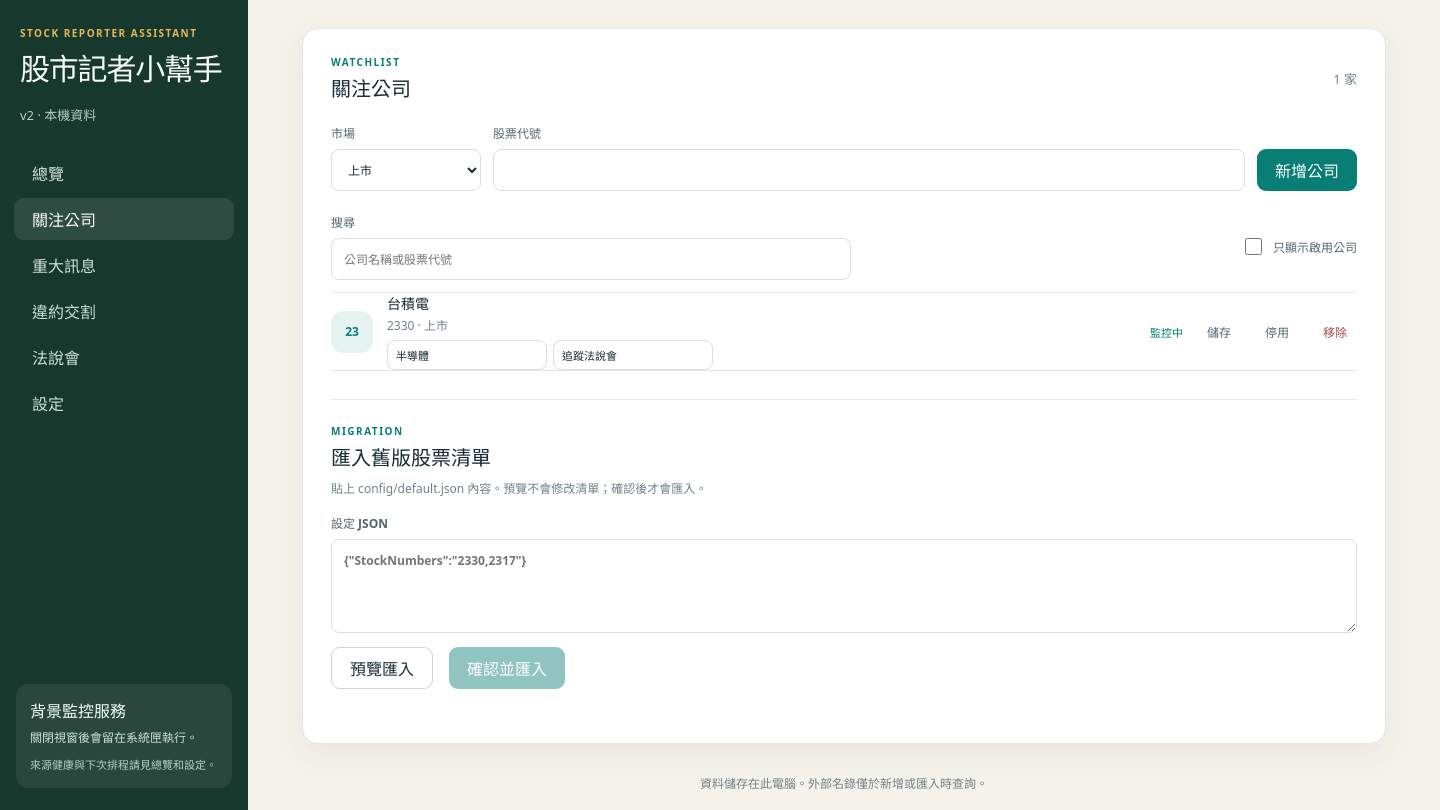
Test: watchlist-management / UI › removes a company from the visible list instead of showing it as disabled
Click the tab "關注公司": (124, 219) [14,198,234,240]
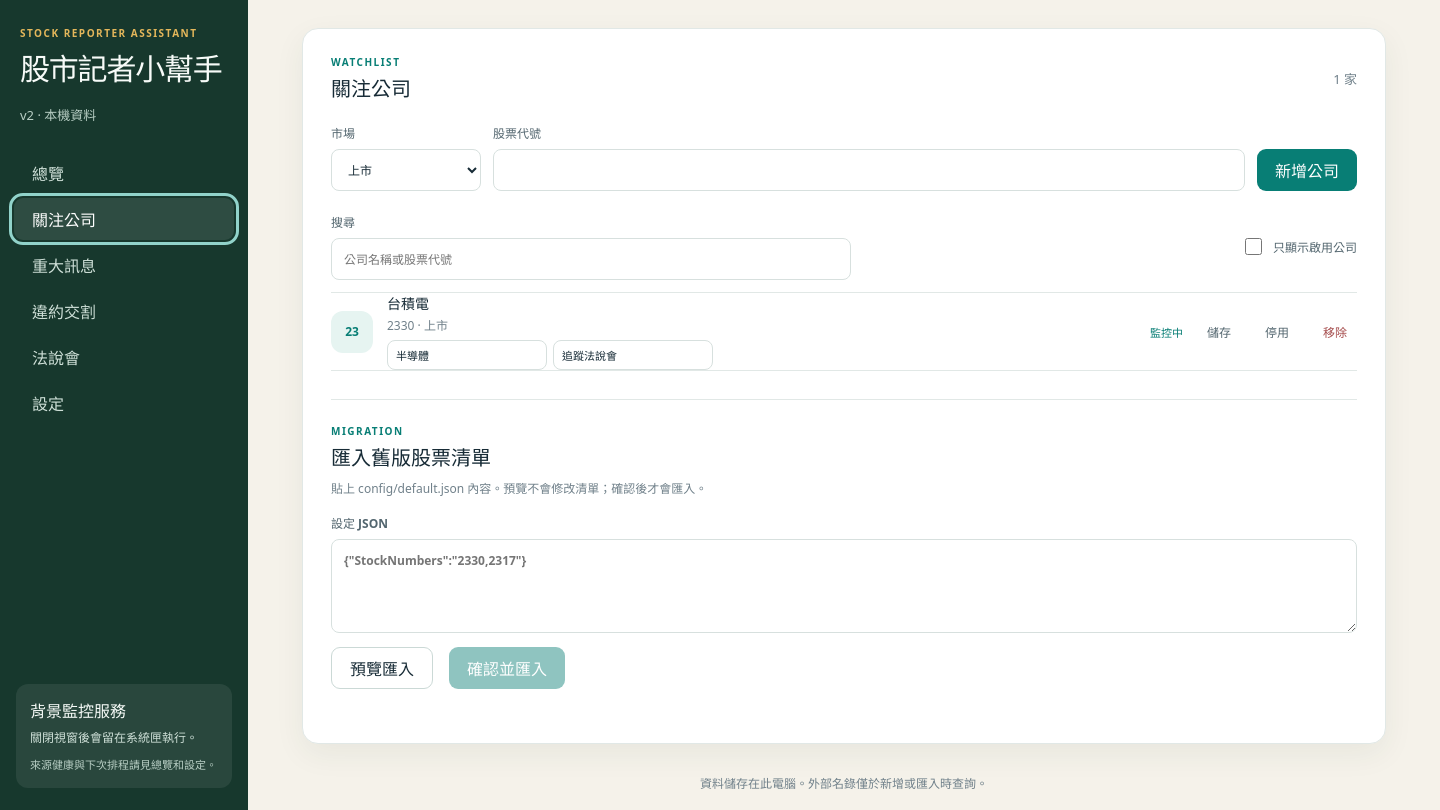
Expected: the text "台積電" is shown, [387,294,429,313]
Click the button with aria-label "移除台積電": (1335, 332) [1313,314,1357,348]
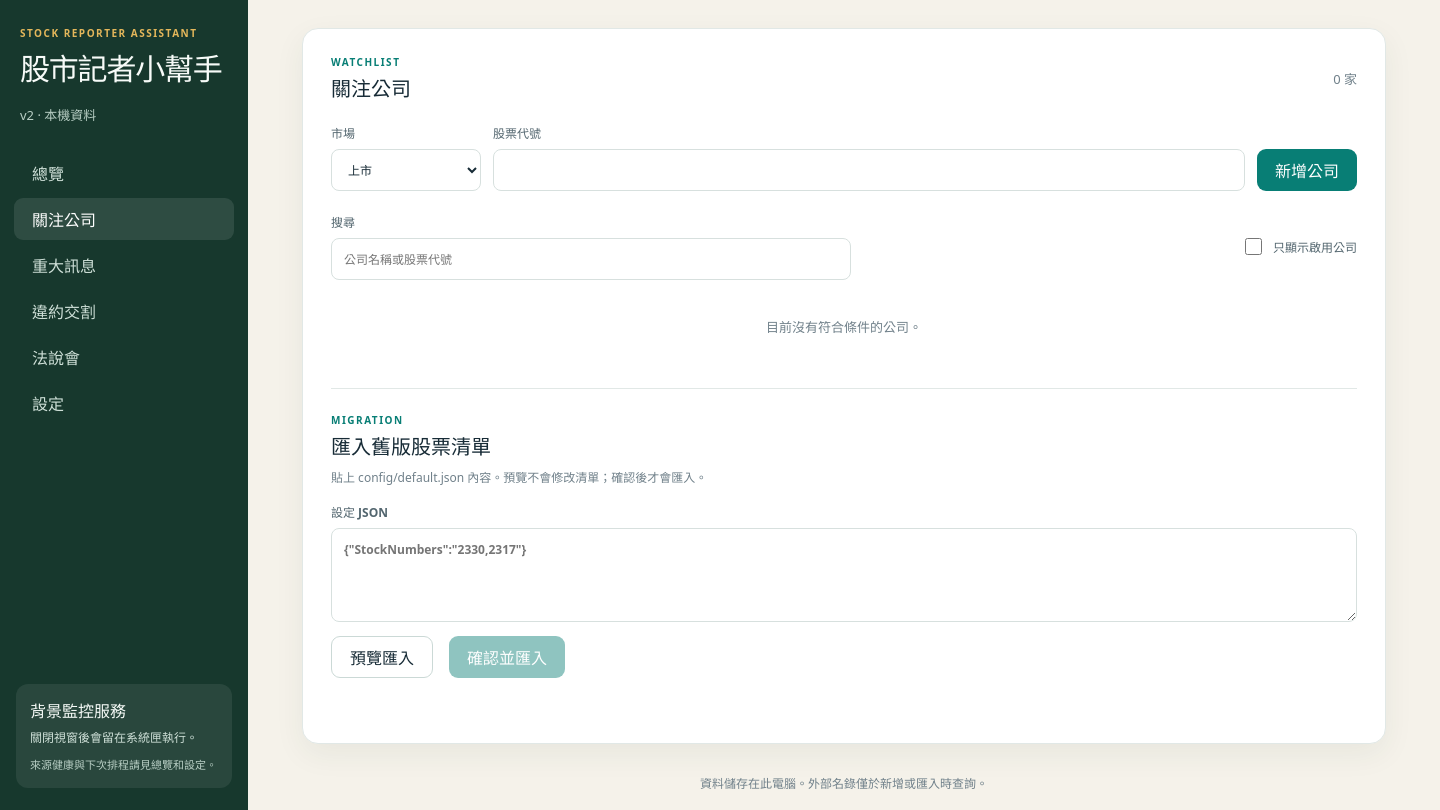
Expected: the text "台積電" is gone
Expected: the text "目前沒有符合條件的公司。" is shown, [766,318,922,336]
